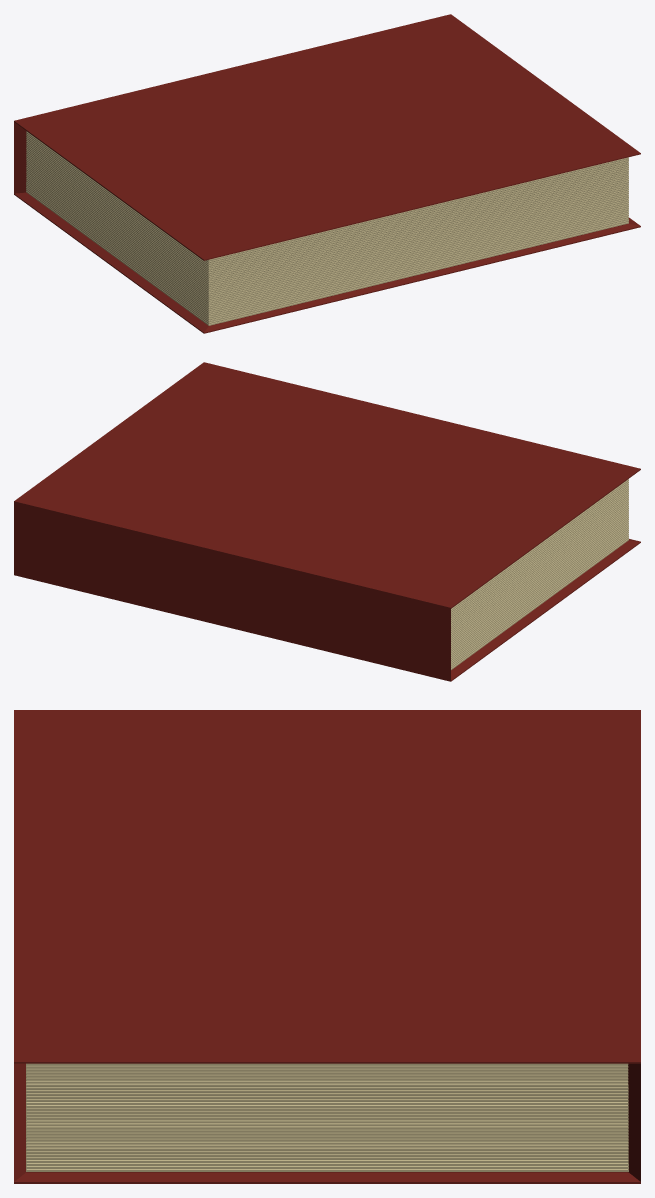
File: book.fbx
3 renders of one model, top to bottom at view 1: azimuth 30°, elevation 25°; view 2: azimuth 150°, elevation 25°; view 3: azimuth 270°, elevation 25°, orthographic. The views are drawn at different scales.
Visible parts, largest first — view 1: Cube.001, Cube; view 2: Cube.001, Cube; view 3: Cube.001, Cube.
Part boxes in pixels (x1=…): Cube.001: x1=14, y1=14, x2=640, y2=333; Cube: x1=26, y1=131, x2=628, y2=325; Cube.001: x1=14, y1=362, x2=640, y2=681; Cube: x1=451, y1=479, x2=628, y2=669; Cube.001: x1=14, y1=710, x2=640, y2=1183; Cube: x1=26, y1=1063, x2=628, y2=1171.
Size of the model in its own units: 208 by 33.65 by 157.
